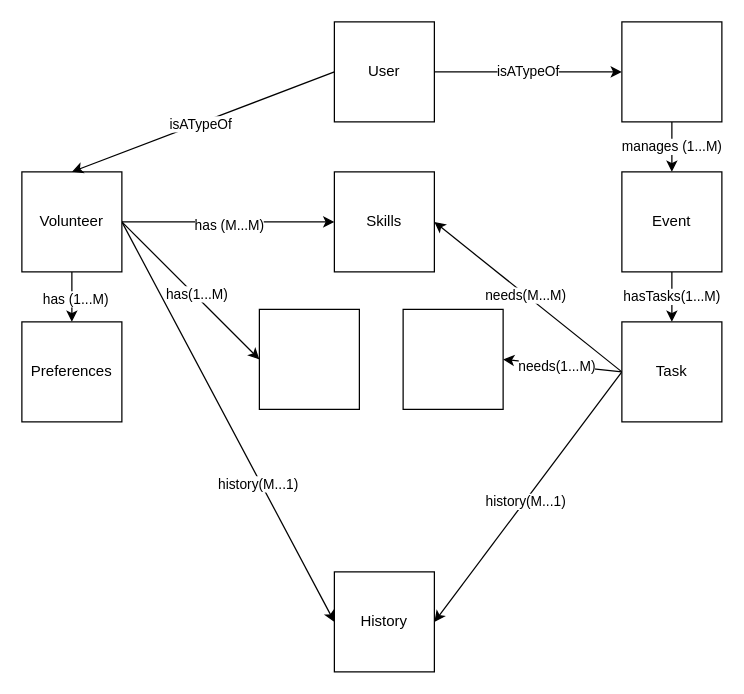
The diagram is 744 pixels wide and 694 high, and some of its shapes have lost their labels. The box of each missing label's shape, as (x1, y1, x2, y2) in pixels:
Admin: (621, 21, 722, 122)
Hours Available: (258, 308, 359, 409)
Hours Needed: (402, 308, 503, 409)
